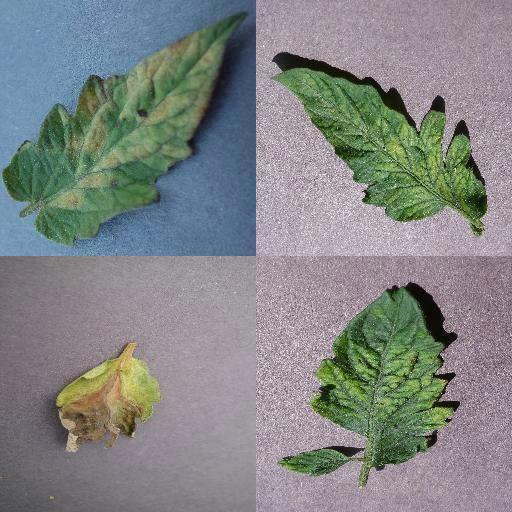Late Blight: (53, 353, 159, 453)
Leaf Mold: (2, 11, 249, 247)
Mosaic Virus: (270, 66, 490, 226), (309, 283, 455, 469), (277, 447, 347, 477)
